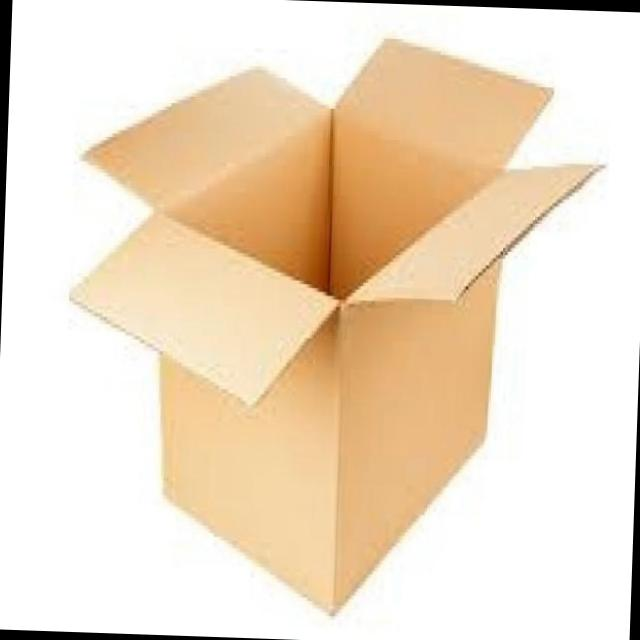cardboard paper: (70, 37, 591, 607)
